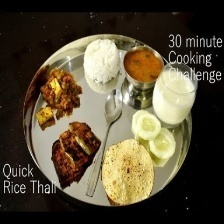dal: (123, 44, 166, 85)
